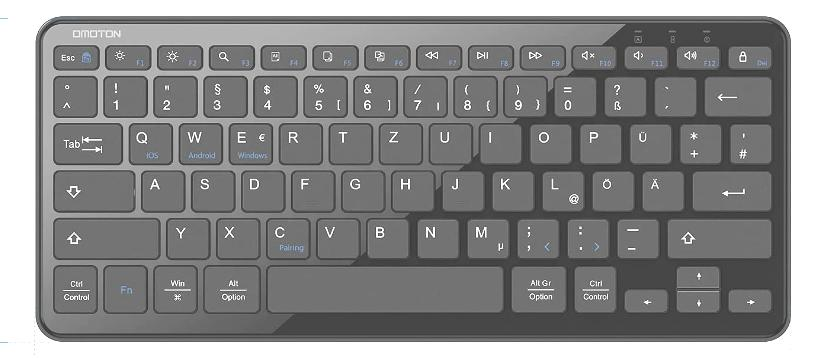0: (551, 73, 595, 116)
1: (101, 72, 145, 115)
2: (151, 72, 196, 115)
3: (200, 72, 246, 115)
4: (251, 72, 295, 115)
5: (300, 72, 346, 116)
6: (350, 72, 396, 116)
7: (401, 72, 446, 116)
8: (450, 72, 495, 116)
9: (500, 72, 546, 116)
a: (138, 166, 183, 210)
accent: (651, 73, 694, 114)
ae: (638, 167, 683, 210)
alt-left: (201, 261, 262, 313)
altgr-right: (508, 262, 566, 312)
b: (363, 215, 408, 257)
c: (263, 215, 309, 258)
caret: (51, 72, 95, 115)
comma: (513, 215, 557, 257)
d: (237, 166, 282, 211)
del: (702, 72, 772, 115)
e: (226, 119, 272, 164)
enter: (689, 167, 771, 210)
f: (288, 167, 332, 210)
g: (338, 167, 382, 210)
h: (388, 167, 432, 210)
hash: (727, 120, 770, 163)
i: (476, 120, 520, 162)
j: (439, 168, 482, 210)
k: (489, 167, 532, 210)
keyboard: (30, 13, 792, 339)
l: (539, 168, 583, 210)
m: (463, 215, 508, 258)
minus: (613, 216, 658, 257)
n: (414, 215, 457, 257)
o: (526, 120, 570, 162)
oe: (589, 168, 632, 210)
p: (576, 120, 620, 162)
plus: (676, 120, 720, 162)
point: (563, 215, 607, 256)
q: (125, 119, 171, 163)
r: (276, 119, 321, 163)
s: (187, 167, 233, 210)
shift-left: (51, 213, 160, 258)
shift-lock: (50, 166, 134, 210)
shift-right: (665, 215, 772, 258)
space: (264, 261, 504, 313)
ss: (601, 73, 645, 115)
strg-left: (50, 261, 98, 313)
strg-right: (571, 262, 616, 312)
t: (326, 119, 370, 162)
tab: (50, 118, 122, 164)
u: (426, 119, 470, 163)
ue: (626, 120, 670, 163)
v: (313, 215, 358, 257)
w: (175, 118, 221, 163)
x: (214, 215, 258, 258)
y: (163, 215, 208, 258)
z: (376, 119, 421, 163)
